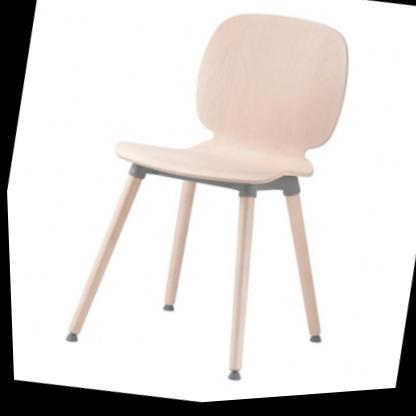Chair: (39, 0, 390, 414)
